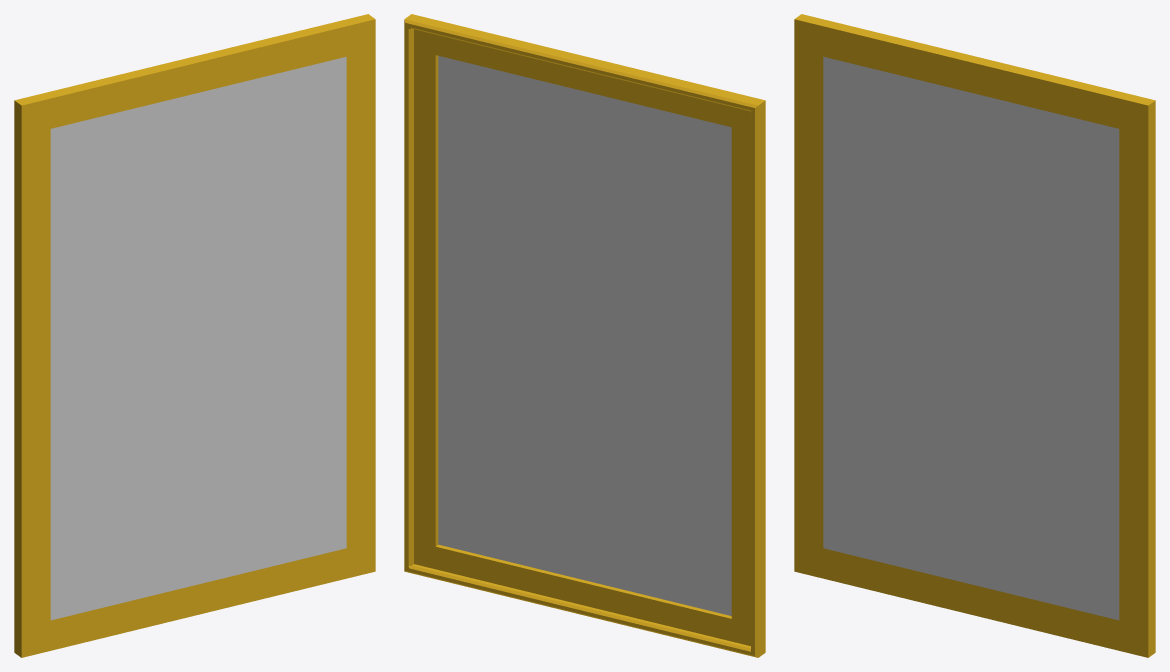
File: Painting_24x36.fbx
The picture shows the model from 3 angles, left to right: view 1: azimuth 30°, elevation 25°; view 2: azimuth 150°, elevation 25°; view 3: azimuth 330°, elevation 25°; orthographic projection.
Parts seen in each view (by area): view 1: Painting_24x36; view 2: Painting_24x36; view 3: Painting_24x36.
Boxes of the visible parts, x1,y1,x2,y2 form: Painting_24x36: [14, 14, 375, 657]; Painting_24x36: [404, 14, 765, 657]; Painting_24x36: [794, 14, 1155, 657].
Bounding box in the file's own units: 60.96 × 90.89 × 2.5.
